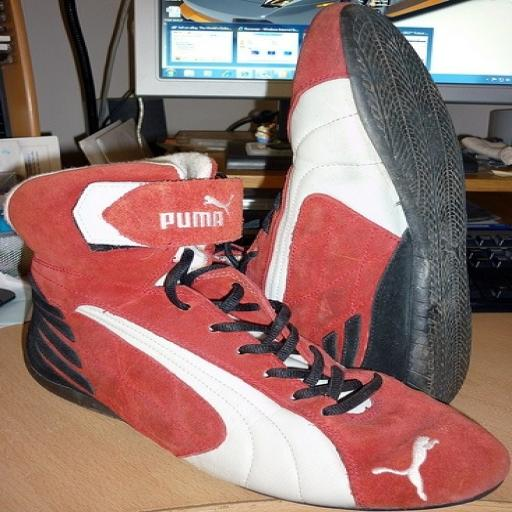shoe: (6, 154, 509, 509), (247, 3, 471, 403)
